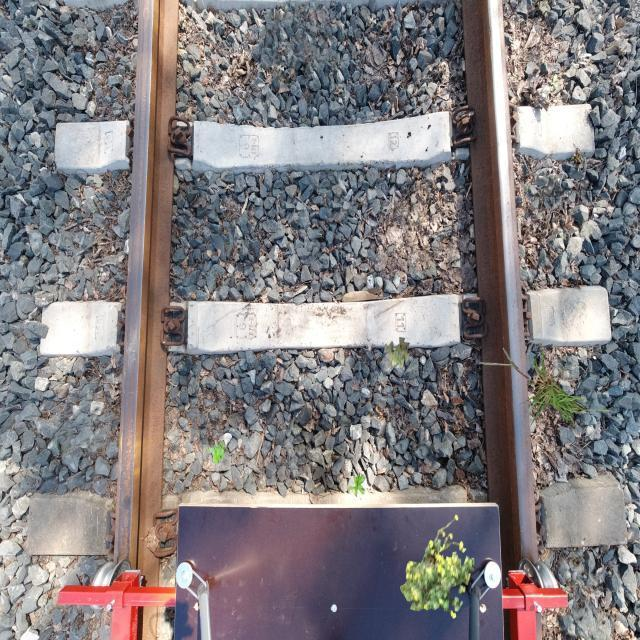Plant: (479, 339, 622, 429), (400, 514, 475, 619), (384, 337, 410, 369), (206, 440, 226, 465), (348, 473, 366, 497)
